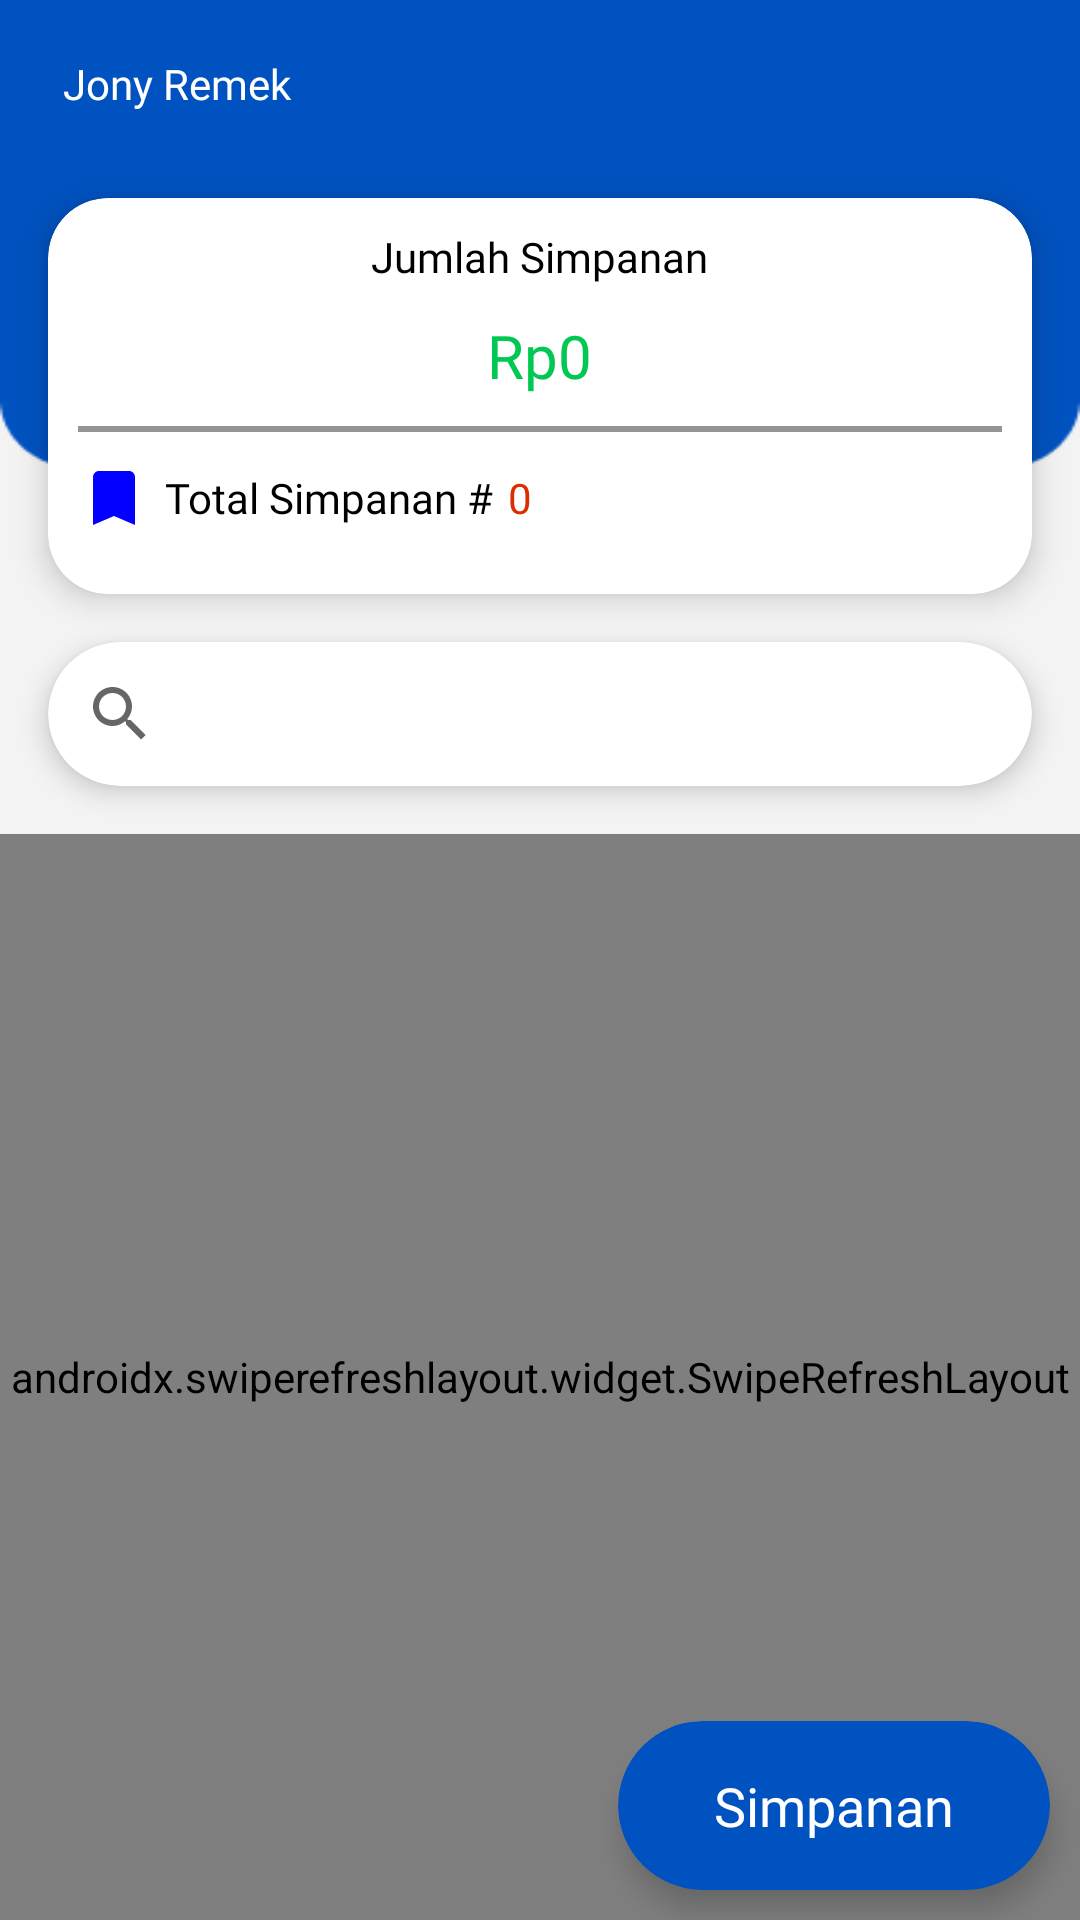

Screen size 1080w x 1920h. Icon name, then its center in pixels as [x,y]:
bookmark: [114,498]
